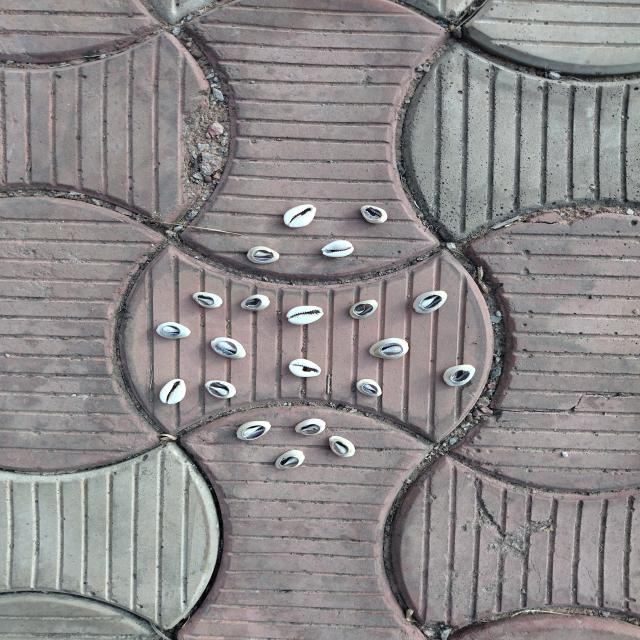facedown: (367, 337, 411, 360), (412, 290, 449, 315), (210, 336, 248, 360), (235, 418, 273, 442), (442, 362, 477, 387), (355, 202, 390, 226), (245, 244, 281, 266), (204, 379, 238, 401), (348, 298, 381, 320), (154, 321, 192, 340), (328, 434, 356, 458), (274, 450, 306, 470), (293, 418, 328, 436), (356, 377, 383, 398), (192, 291, 223, 309), (240, 294, 271, 312)
faceup: (280, 202, 319, 232), (319, 239, 356, 262), (158, 378, 188, 406), (285, 305, 325, 326), (288, 358, 322, 380)
